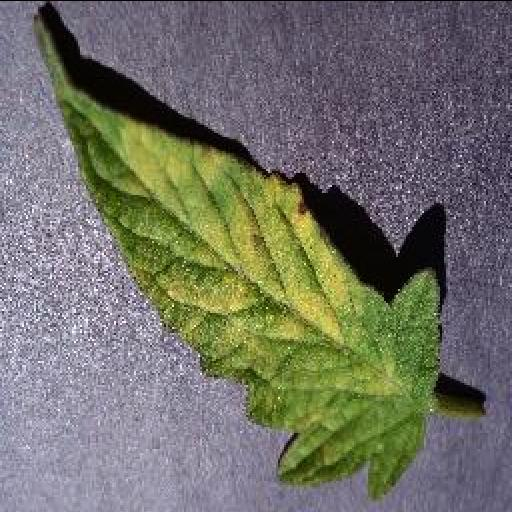disease_tomato: (30, 14, 446, 496)
